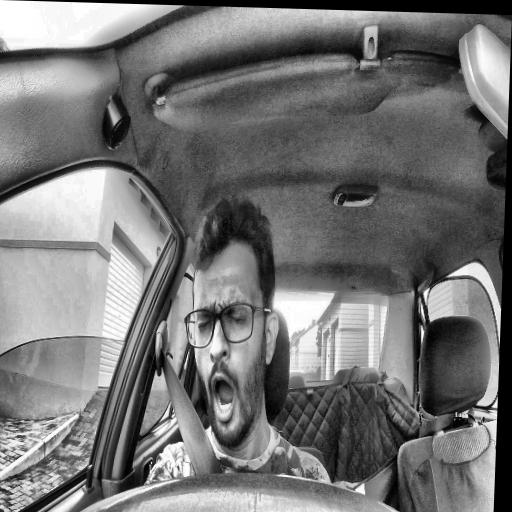drowsy: (179, 198, 285, 447)
